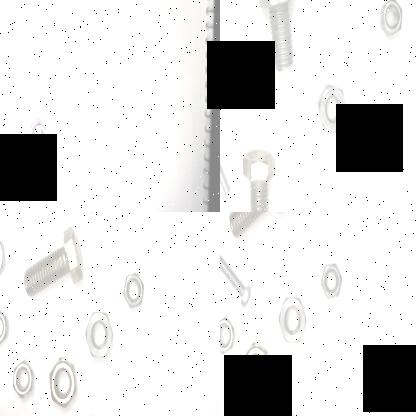Bolts: (19, 226, 89, 300), (258, 0, 309, 82), (241, 144, 279, 212), (220, 245, 255, 313), (230, 212, 288, 240), (267, 395, 321, 416), (220, 120, 233, 202)
NUTS: (314, 80, 356, 140), (242, 336, 276, 396), (46, 350, 78, 410), (86, 306, 118, 366), (278, 294, 309, 349), (118, 268, 150, 318), (9, 358, 42, 405), (376, 0, 406, 48), (319, 260, 345, 304), (220, 311, 239, 357), (0, 305, 12, 351), (0, 231, 9, 287), (31, 122, 47, 152)
